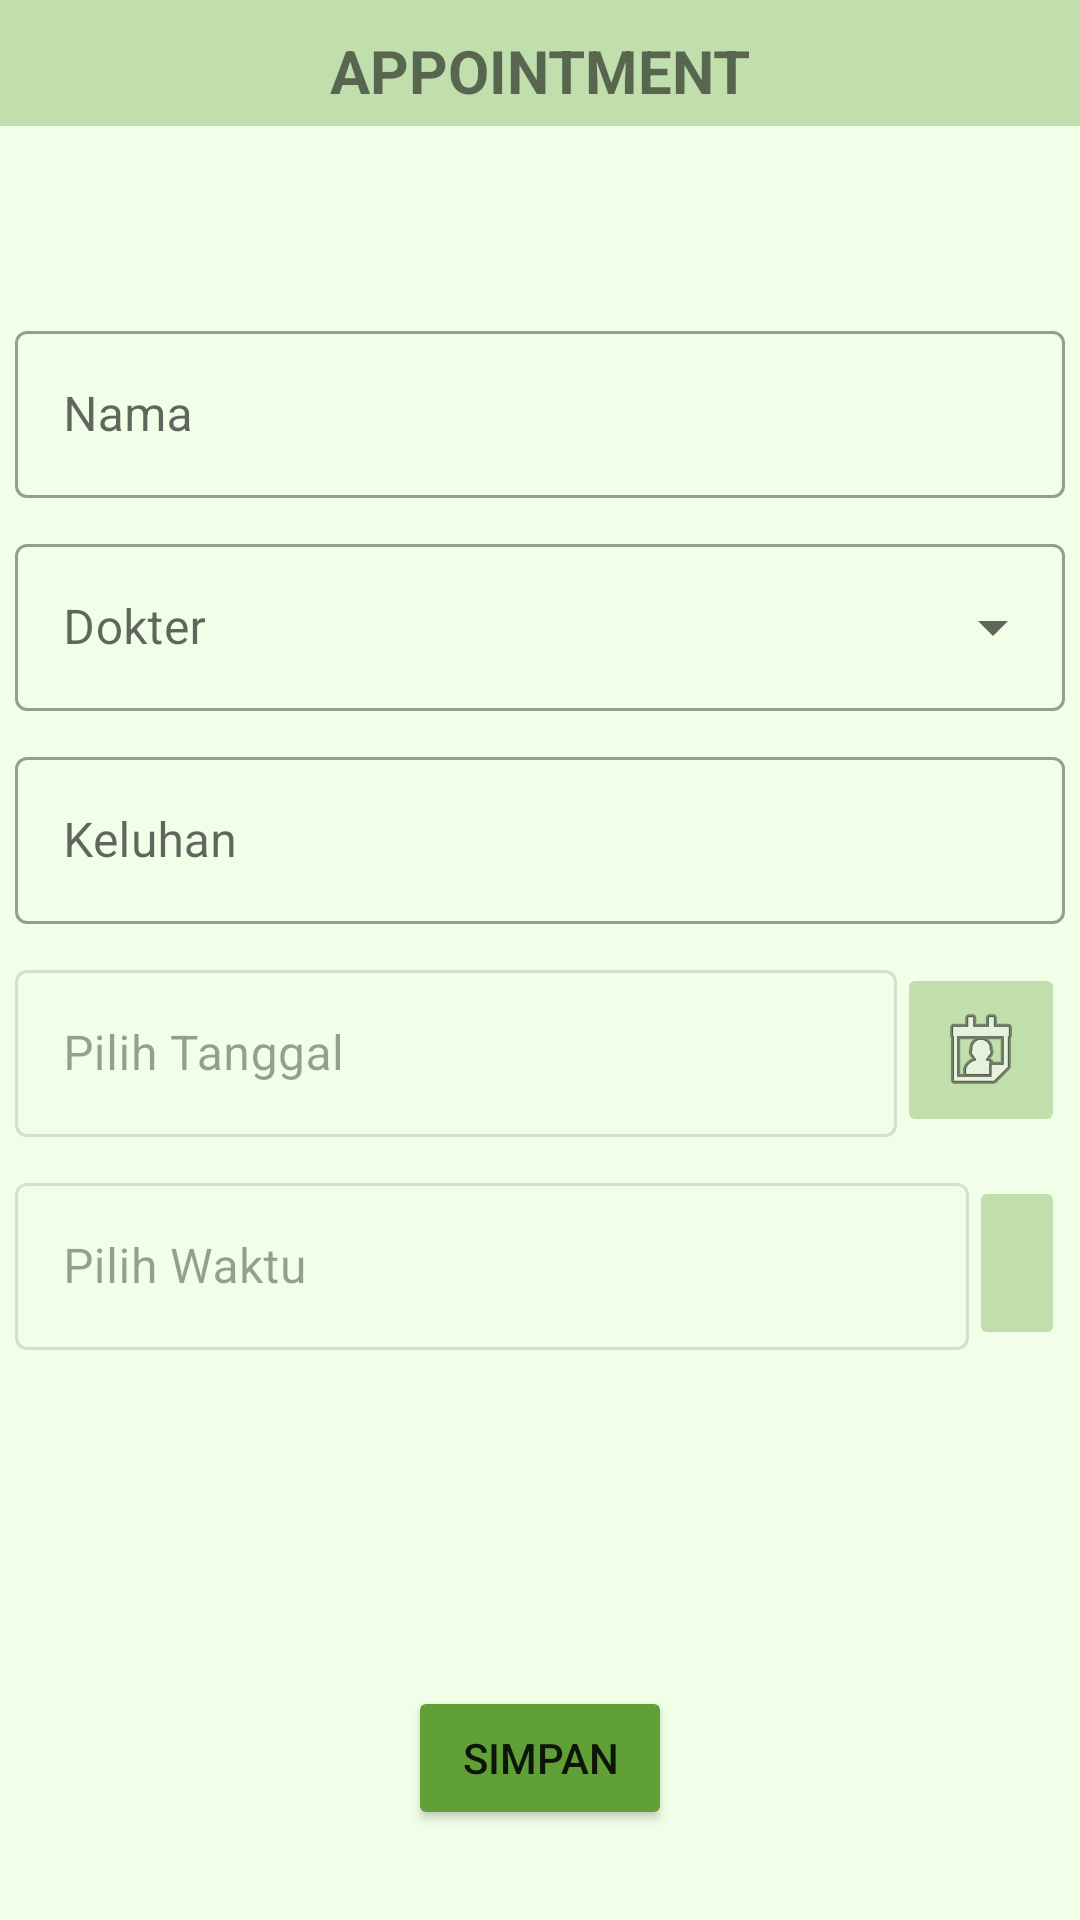

Icon click points for this 1080*1920 phone screenshot, format [x,y]:
calendar: [981,1050]
